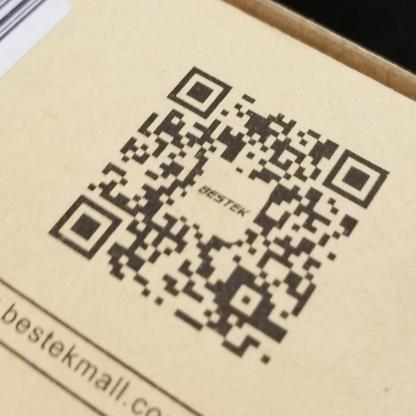barcode: (1, 1, 50, 48)
qr: (46, 62, 394, 372)
